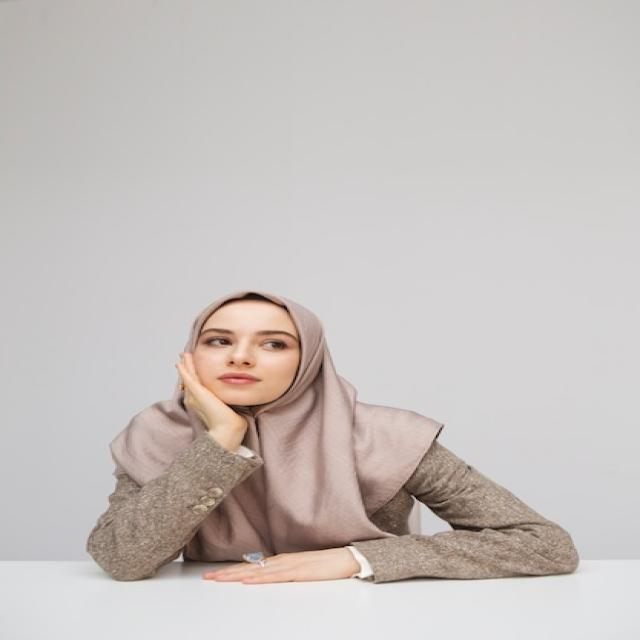Person: (85, 289, 580, 584)
